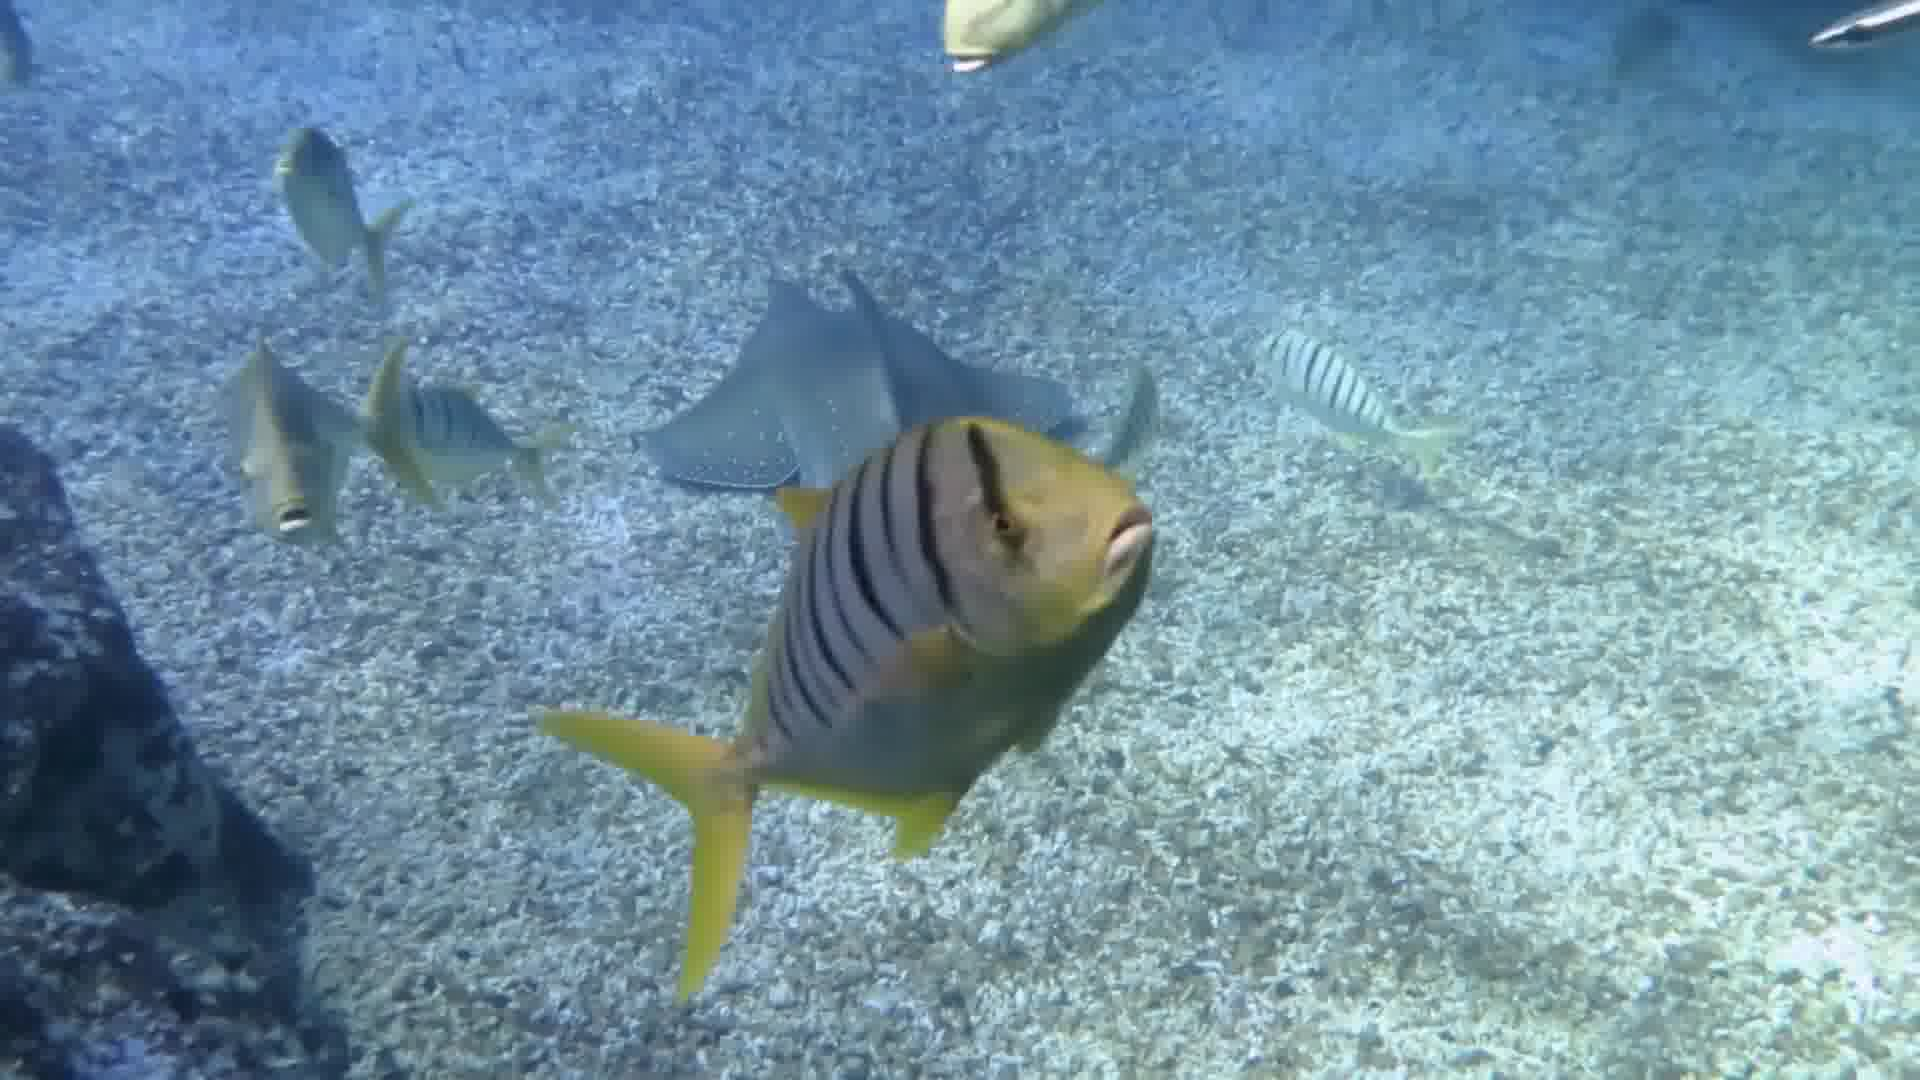Rhychobatus djiddensis: (588, 215, 1062, 477)
